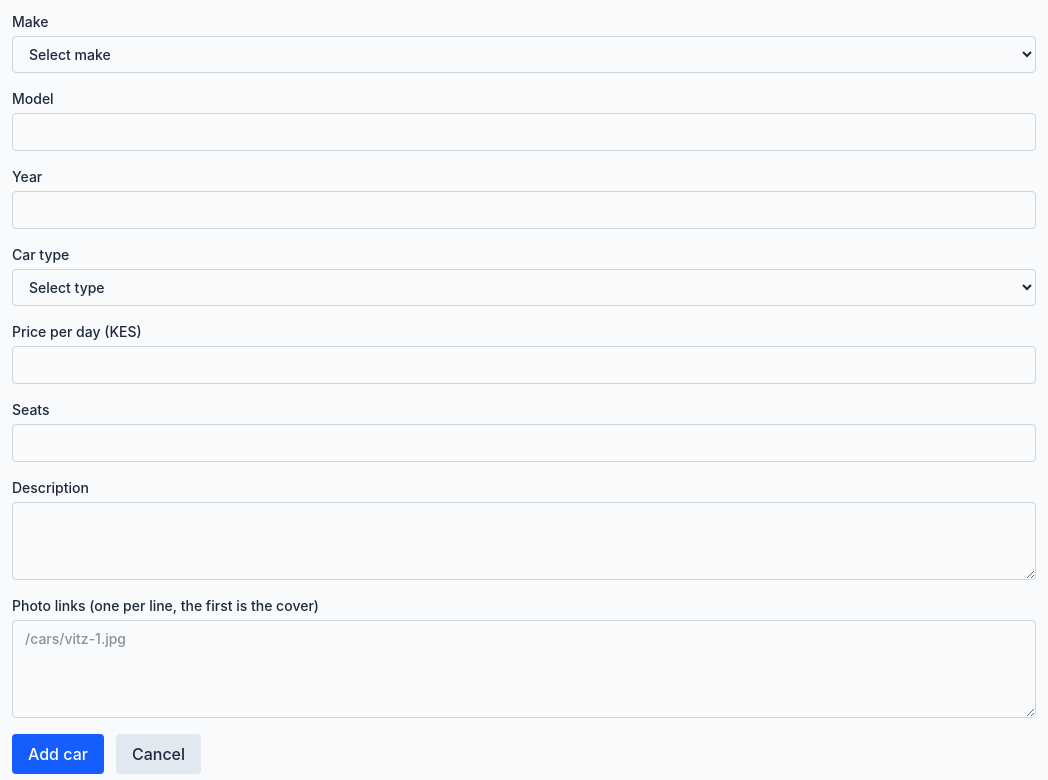
Test case: CarForm › shows a validation error and does not submit
Click the button "Add car".
click(58, 754)  # box [12,734,104,774]
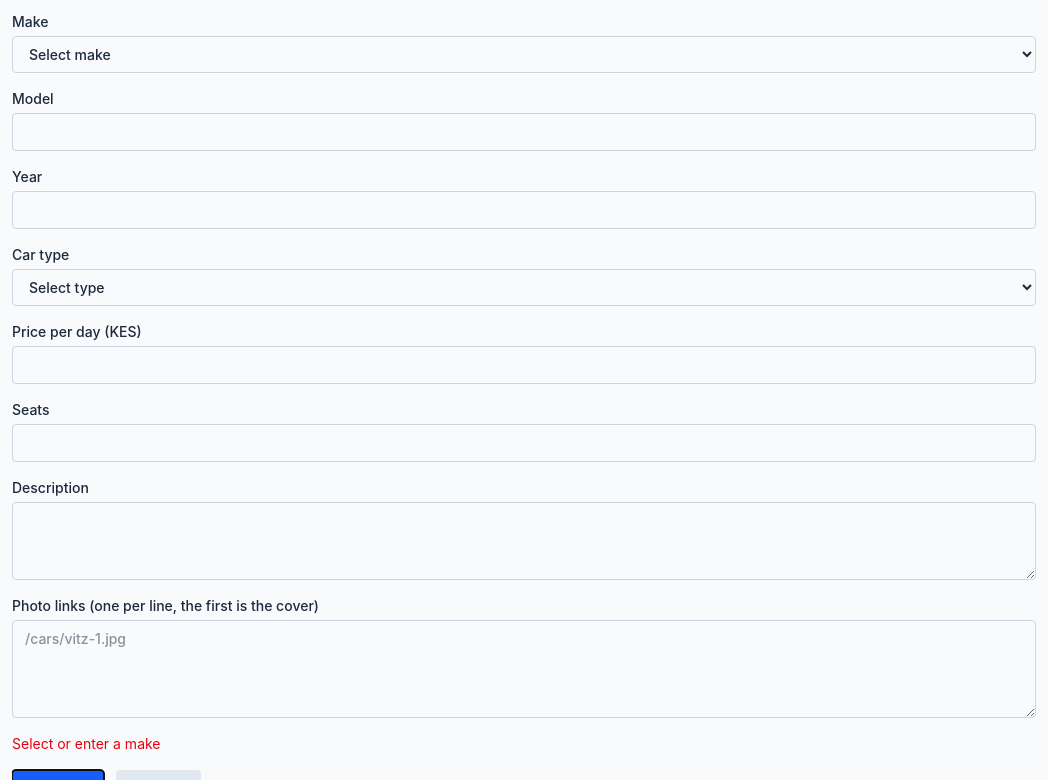
Now the message shows "make", box [12,735,160,752]
